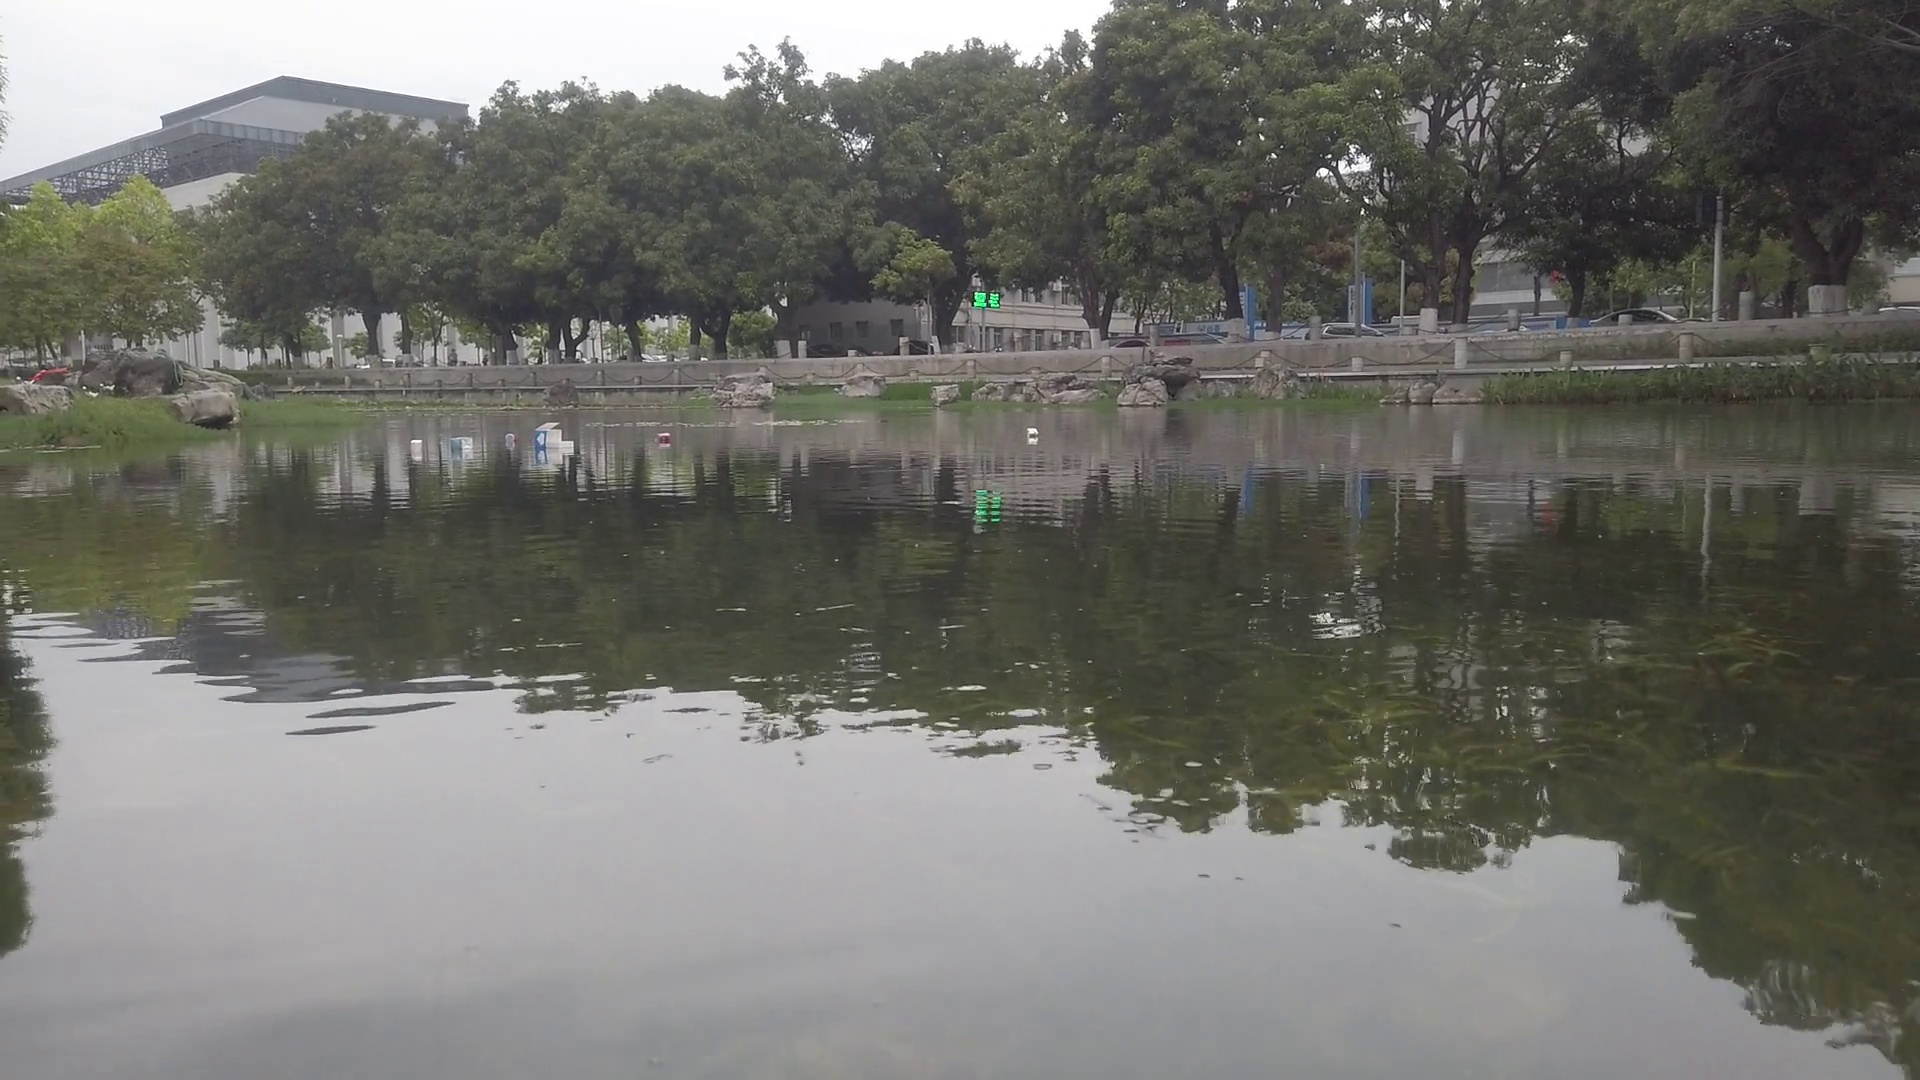bottle: (658, 433, 673, 444), (506, 433, 516, 446)
carton: (533, 423, 567, 448), (451, 436, 475, 450), (1025, 426, 1036, 439), (411, 438, 425, 448)
